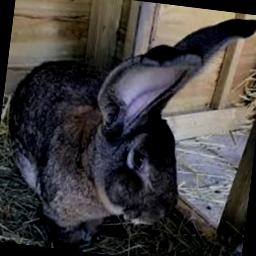rabbit: (8, 18, 256, 249)
